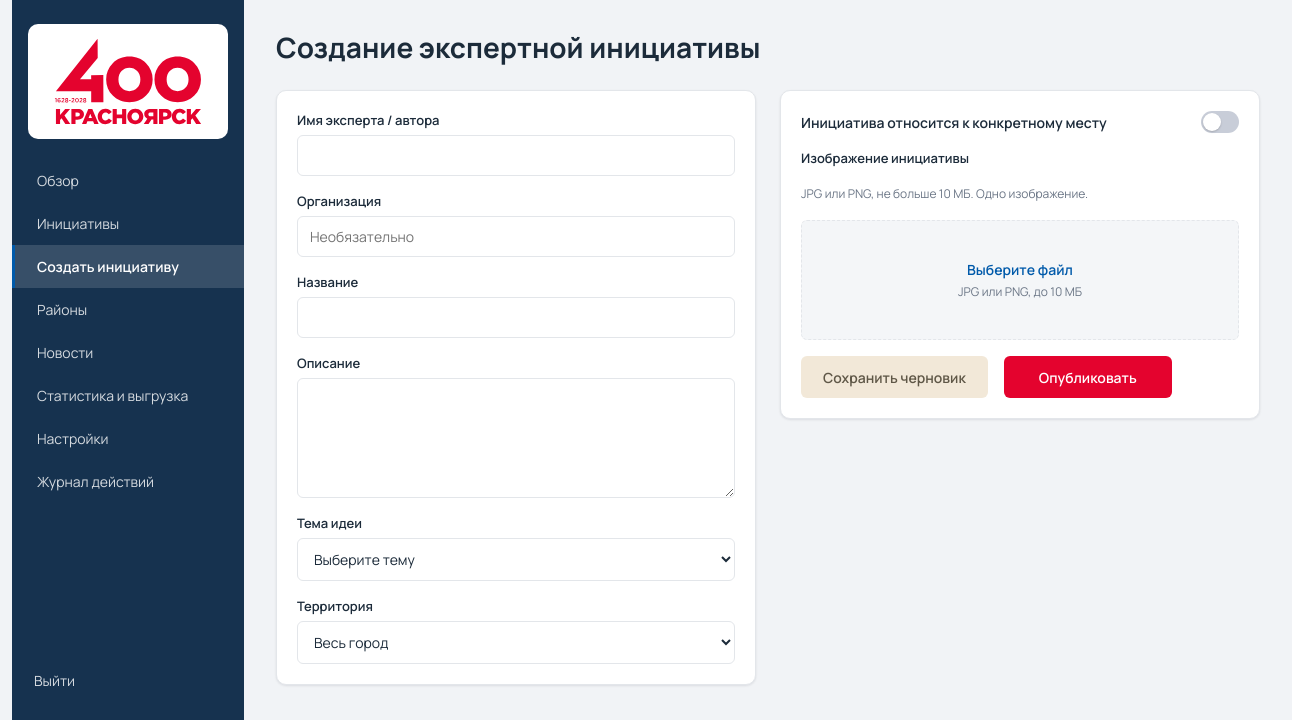
Scenario: admin initiatives › shows a validation error for a too-short title
Type "Коротко" into the field labelled "Название" at coordinates (516, 318), box [297,297,735,338]
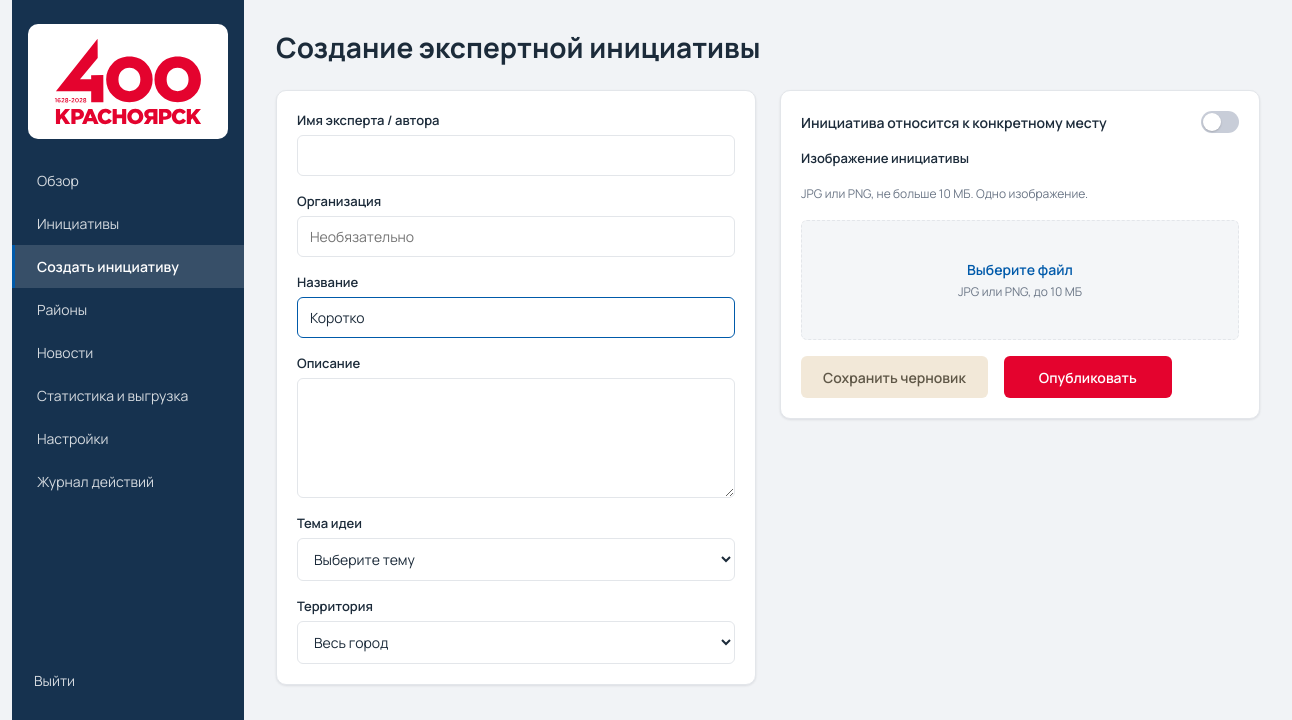
Type "Описание новой инициативы, достаточно длинное чтобы пройти валидацию минимум пятьдесят символов." into the text box labelled "Описание" at coordinates (516, 438), box [297,378,735,498]
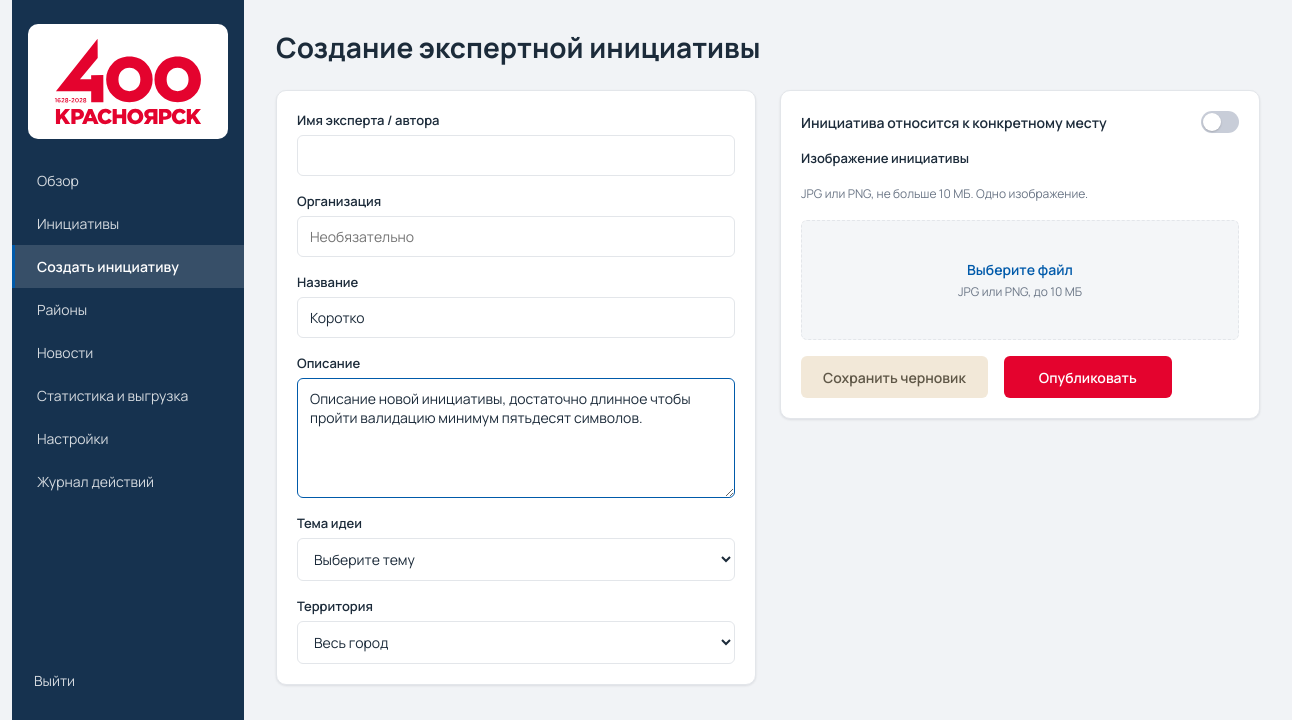
Click the button "Сохранить черновик" at coordinates (894, 377), box [801,356,988,398]
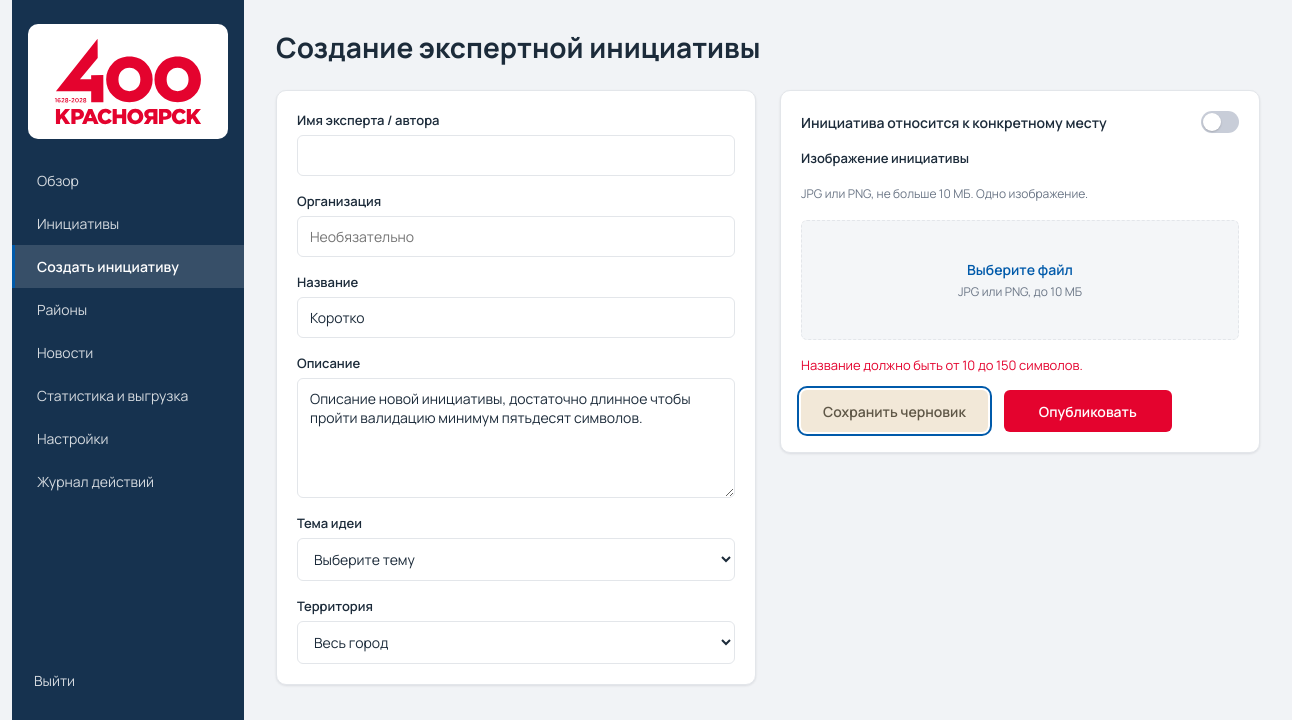
Now the message shows "от 10 до 150 символов", box [801,356,1083,374]
